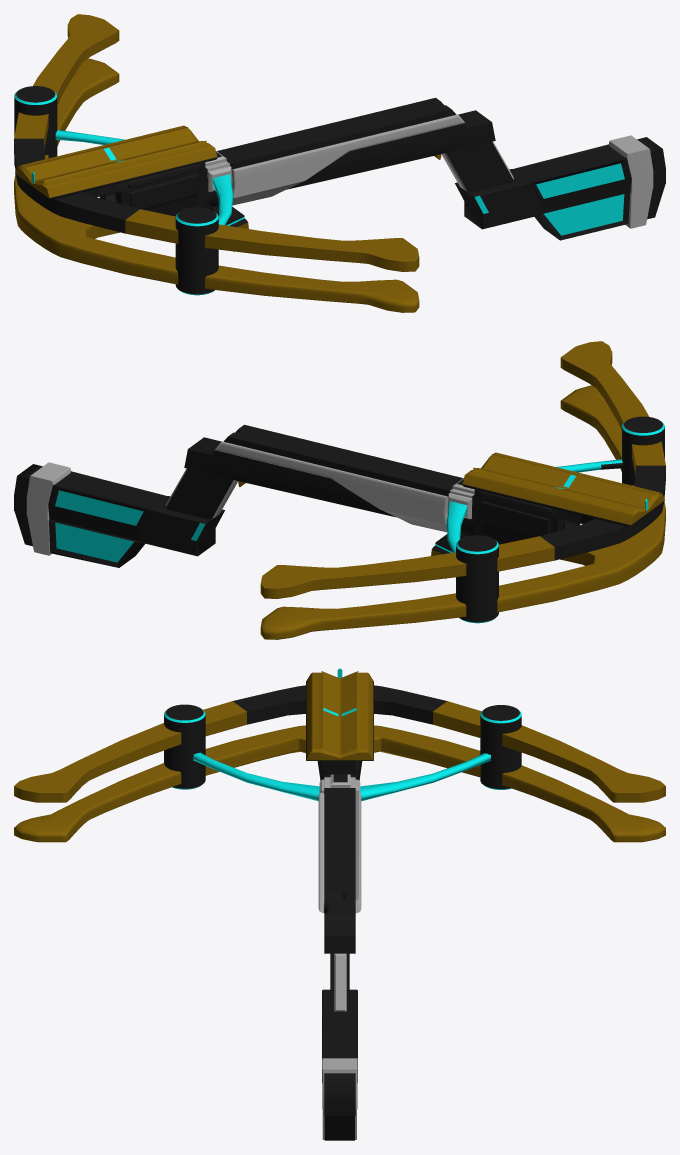
Rendered from crossbow.fbx.
3 renders of one model, top to bottom at view 1: azimuth 30°, elevation 25°; view 2: azimuth 150°, elevation 25°; view 3: azimuth 270°, elevation 25°, orthographic. The views are drawn at different scales.
Parts seen in each view (by area): view 1: Crossbow; view 2: Crossbow; view 3: Crossbow.
Part boxes in pixels (<box>): Crossbow: <box>14,14,665,312</box>; Crossbow: <box>14,341,665,639</box>; Crossbow: <box>14,668,665,1140</box>.
Size of the model in its own units: 33.36 by 9.87 by 31.17.
